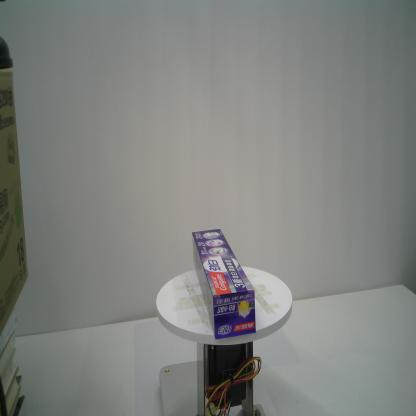Personal Hygiene: (190, 225, 258, 342)
